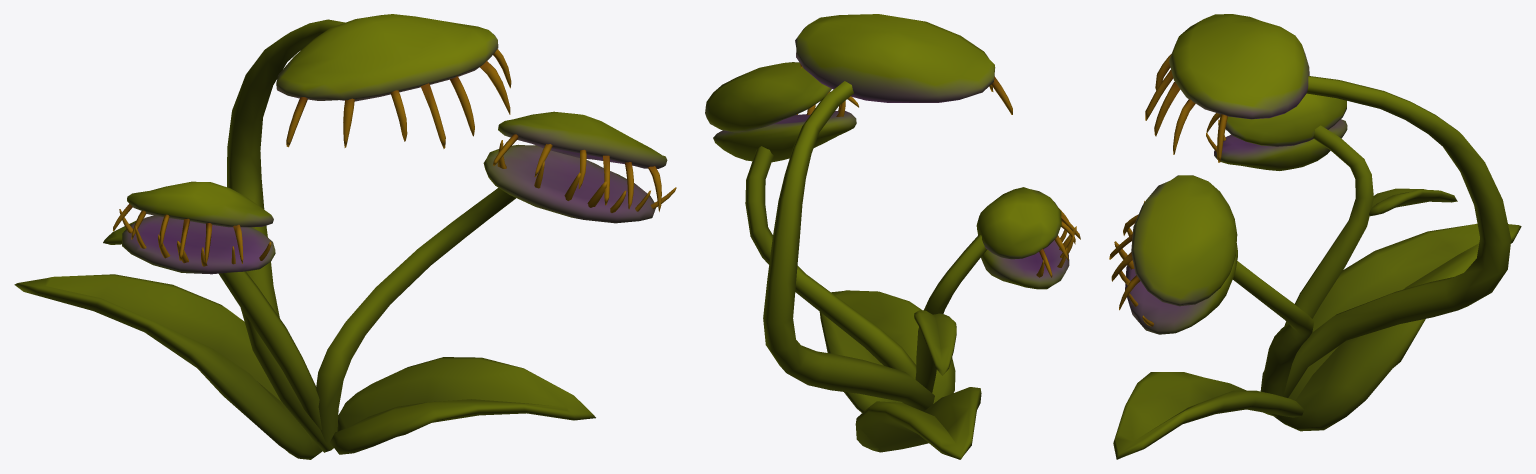
Rendered from Plant_27.fbx.
3 renders of one model, left to right at view 1: azimuth 30°, elevation 25°; view 2: azimuth 150°, elevation 25°; view 3: azimuth 270°, elevation 25°, orthographic. The views are drawn at different scales.
Parts seen in each view (by area): view 1: Plant_27; view 2: Plant_27; view 3: Plant_27.
Boxes of the visible parts, x1=… form: Plant_27: x1=14, y1=14, x2=676, y2=459; Plant_27: x1=705, y1=14, x2=1080, y2=459; Plant_27: x1=1109, y1=14, x2=1521, y2=459.
Bounding box in the file's own units: 5.33 × 4.77 × 4.34.
